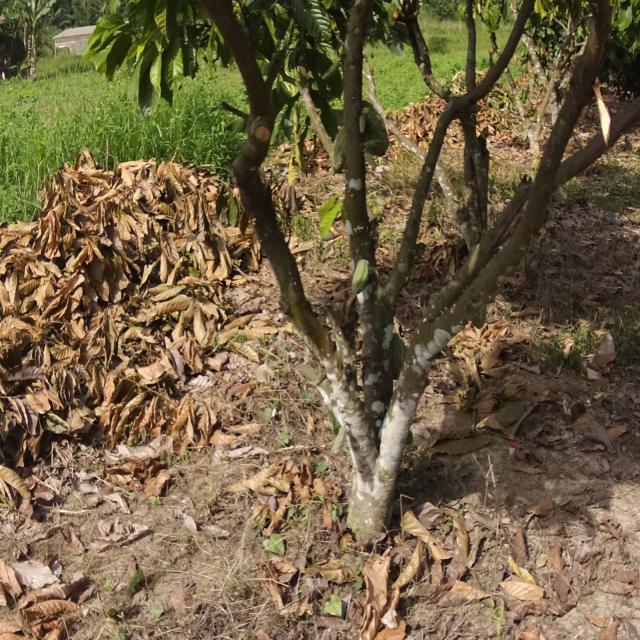Immature: (347, 257, 379, 303)
Mature_Unripe: (353, 95, 395, 168)
